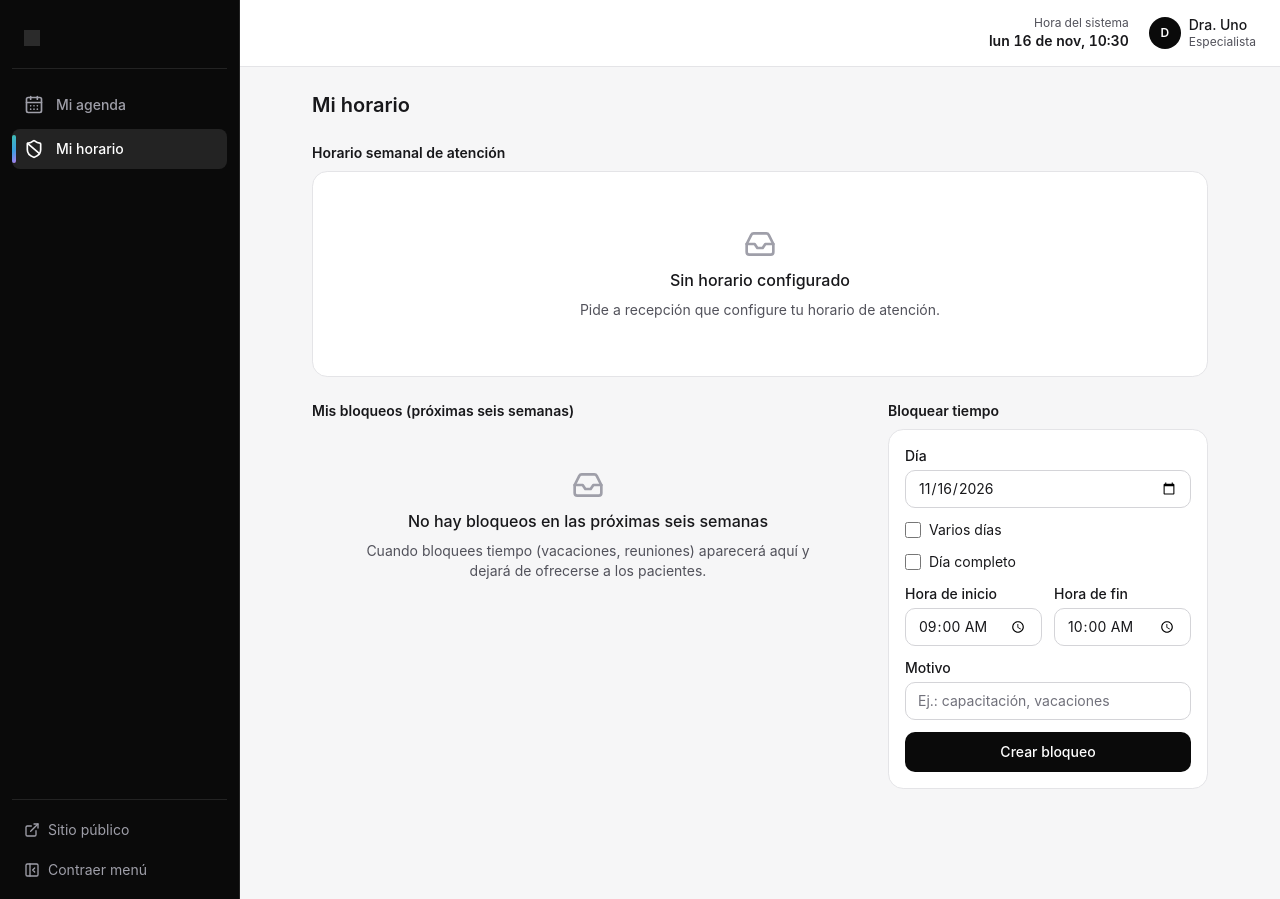
Scenario: bloqueos › el especialista ve las citas en conflicto y la indicación de pedir a recepción que las mueva
(page scrolled)
Click the button "Crear bloqueo" at (1048, 752), box [905,732,1191,772]
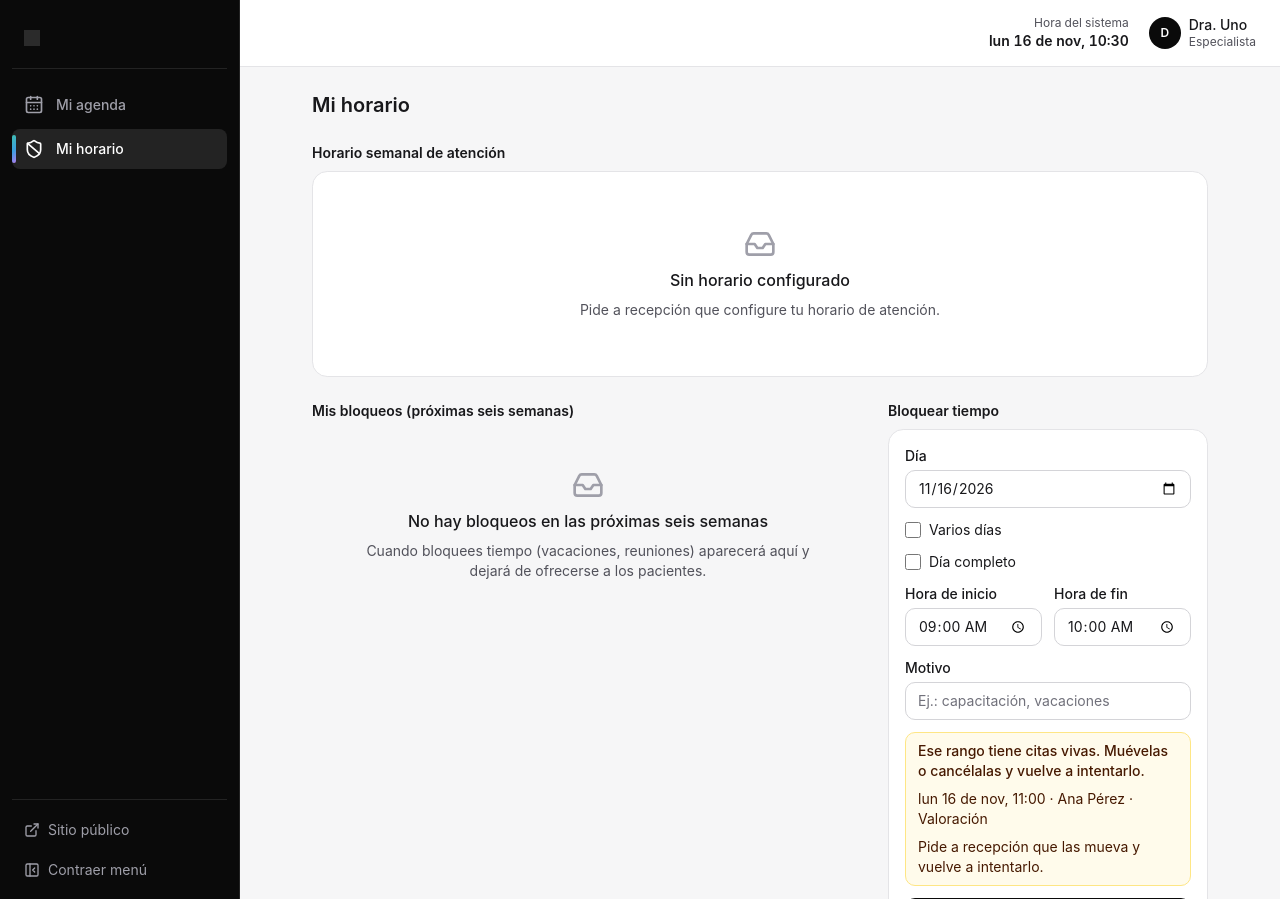
Expected: the text "tiene citas vivas" is shown, [918,742,1168,779]
Expected: the text "lun 16 de nov, 11:00 · Ana Pérez · Valoración" is shown, [918,790,1133,827]
Expected: the text "Pide a recepción que las mueva y vuelve a intentarlo." is shown, [918,837,1178,877]
